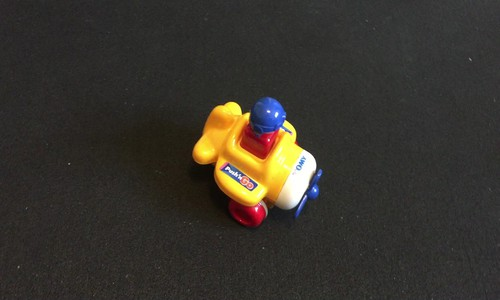toy: (188, 81, 325, 242)
